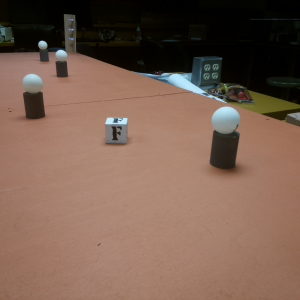blockF: (104, 116, 128, 144)
corner: (63, 15, 79, 52)
obstacle: (209, 105, 245, 172), (20, 72, 44, 121), (54, 50, 68, 77), (38, 40, 49, 61)
